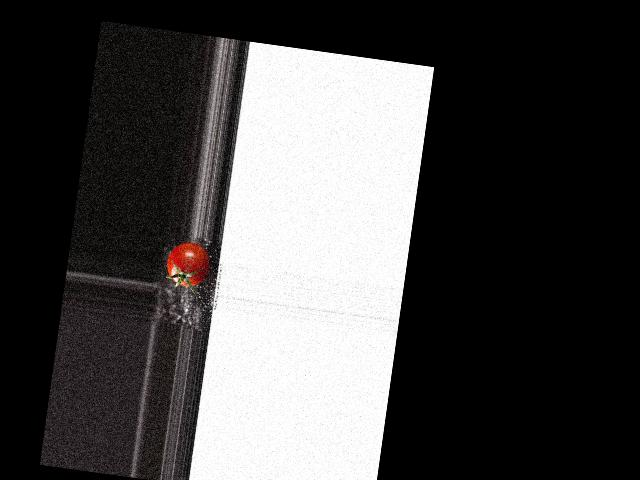tomato: (164, 240, 212, 289)
